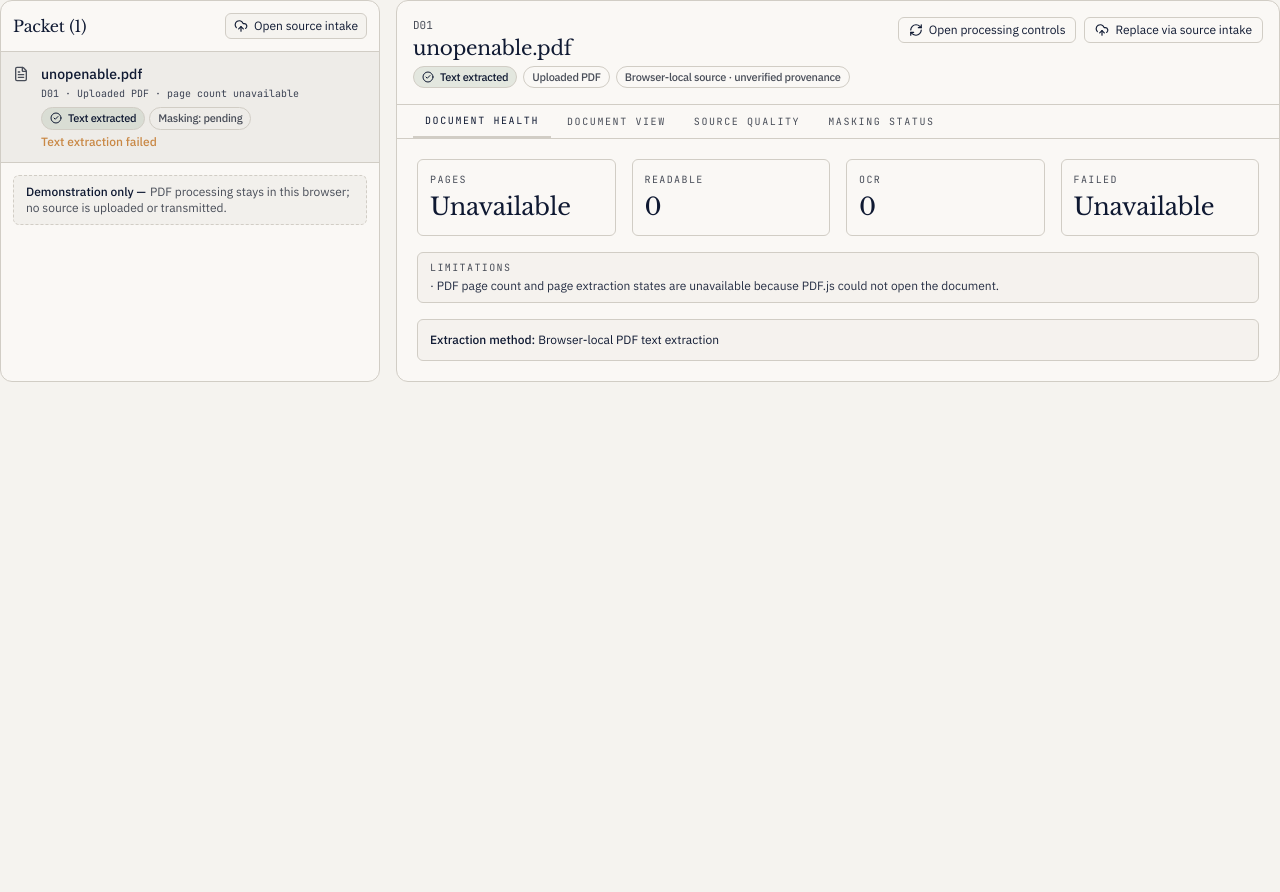
it: DocumentCards extraction facts › shows an unavailable page count when PDF.js could not open the document
The width and height of the screenshot is (1280, 892).
Expected: the text "D01 · Uploaded PDF · page count unavailable" is shown, [41,87,299,100]
Click the tab "Source Quality": (747, 122) [682,105,812,138]
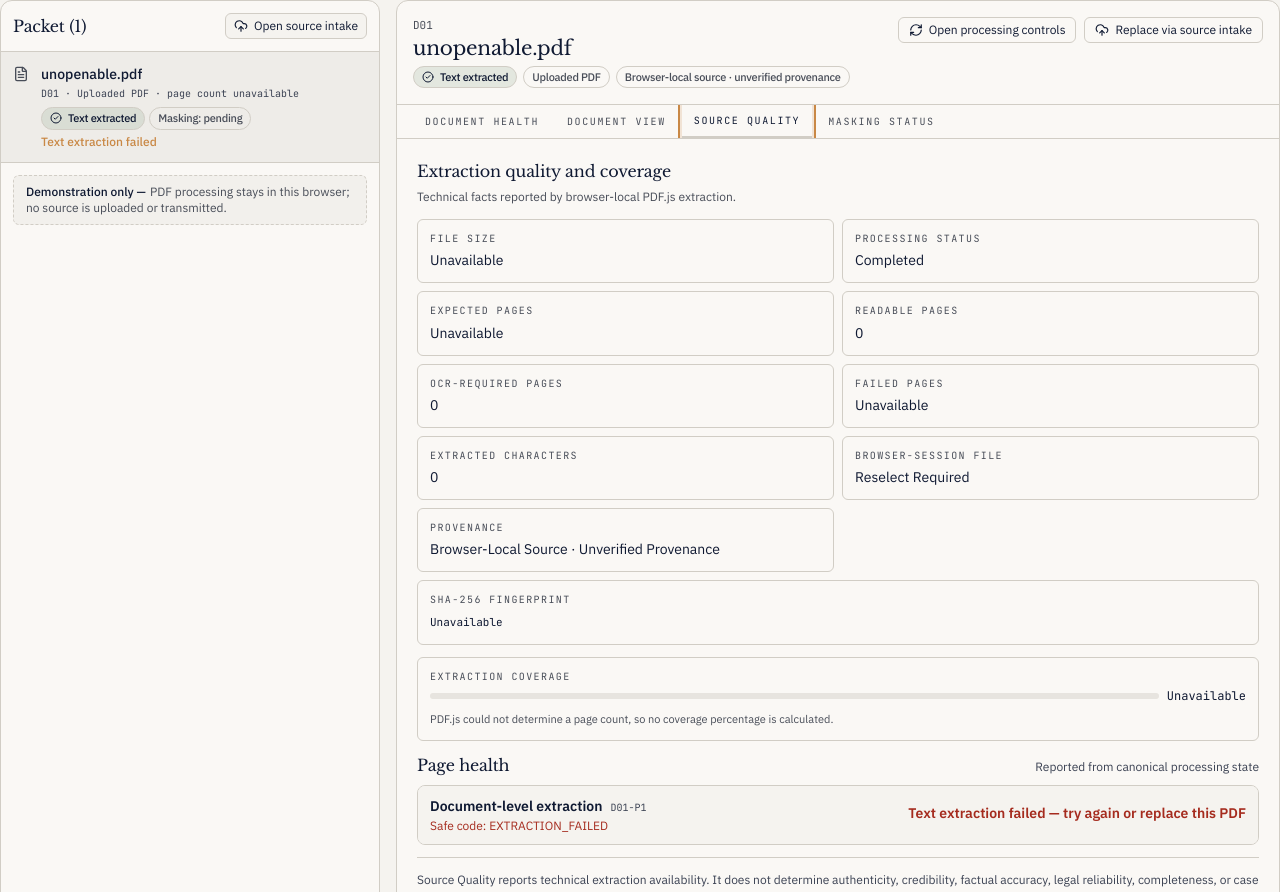
Expected: the text "Document-level extraction" is shown, [430,797,602,815]
Expected: the text "PDF.js could not determine a page count, so no coverage percentage is calculated" is shown, [430,712,834,726]
